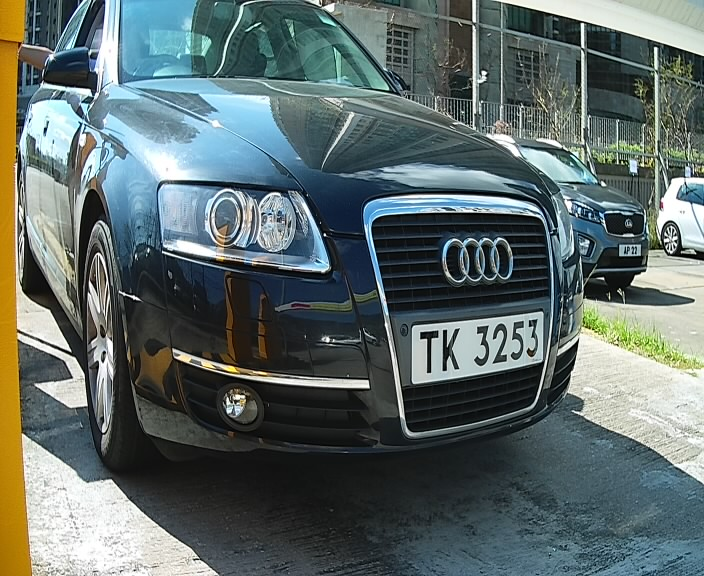Car: (30, 2, 591, 517)
License Plate: (401, 304, 551, 395)
